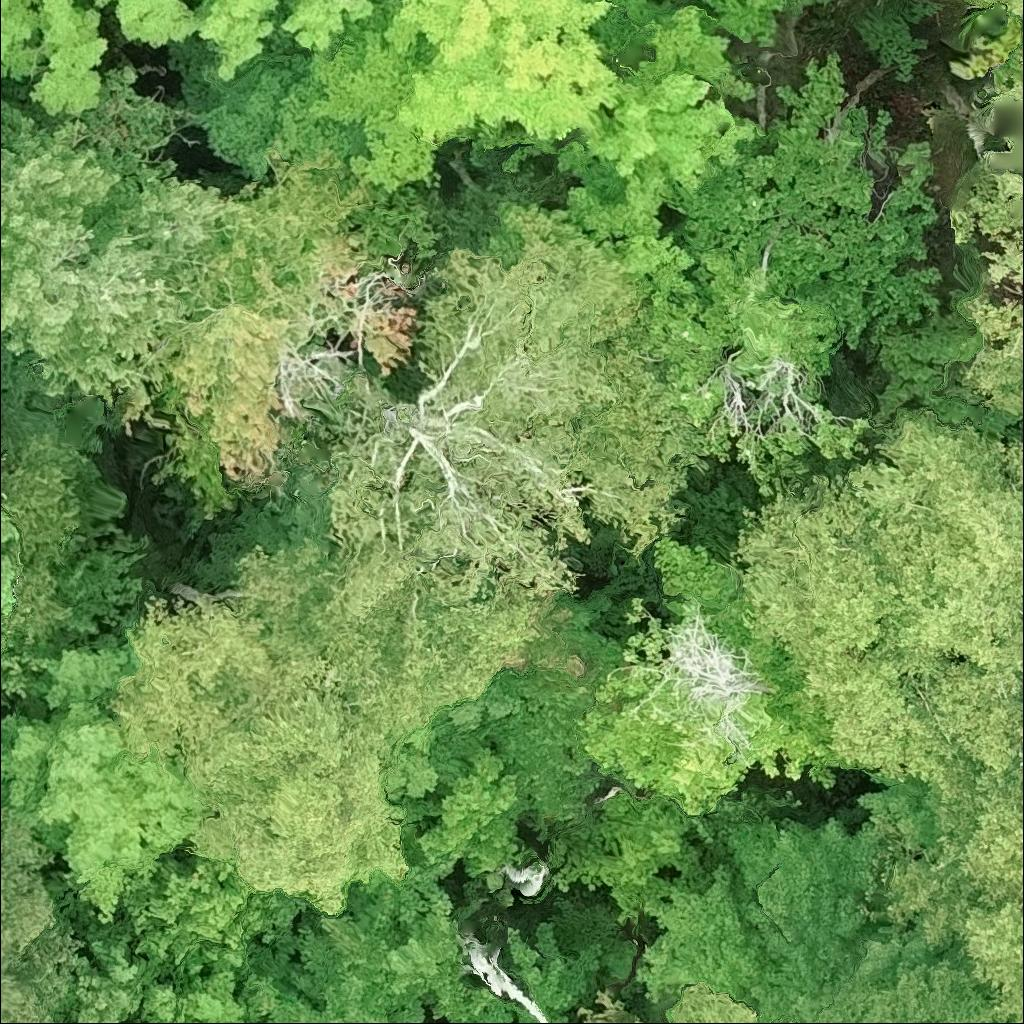crown: (106, 536, 558, 919), (324, 215, 691, 608), (725, 405, 1023, 784), (115, 135, 384, 521), (172, 0, 638, 195), (0, 101, 242, 409), (0, 631, 216, 923), (632, 813, 890, 1023), (546, 0, 766, 238), (469, 199, 701, 386), (242, 875, 499, 1023), (873, 719, 1023, 956), (64, 859, 277, 1023), (576, 685, 833, 818), (429, 666, 600, 845), (0, 0, 200, 118), (548, 792, 717, 928), (0, 801, 84, 1023), (398, 743, 533, 874), (811, 938, 1014, 1023), (190, 0, 380, 85), (506, 917, 607, 1023), (950, 164, 1023, 290), (647, 0, 813, 50), (955, 901, 1023, 1023), (960, 298, 1023, 427), (384, 713, 444, 803), (394, 856, 459, 929), (668, 984, 761, 1023), (0, 503, 20, 624), (992, 40, 1023, 105), (952, 0, 1023, 24), (504, 999, 539, 1023), (478, 1004, 520, 1023), (772, 1017, 794, 1023)
